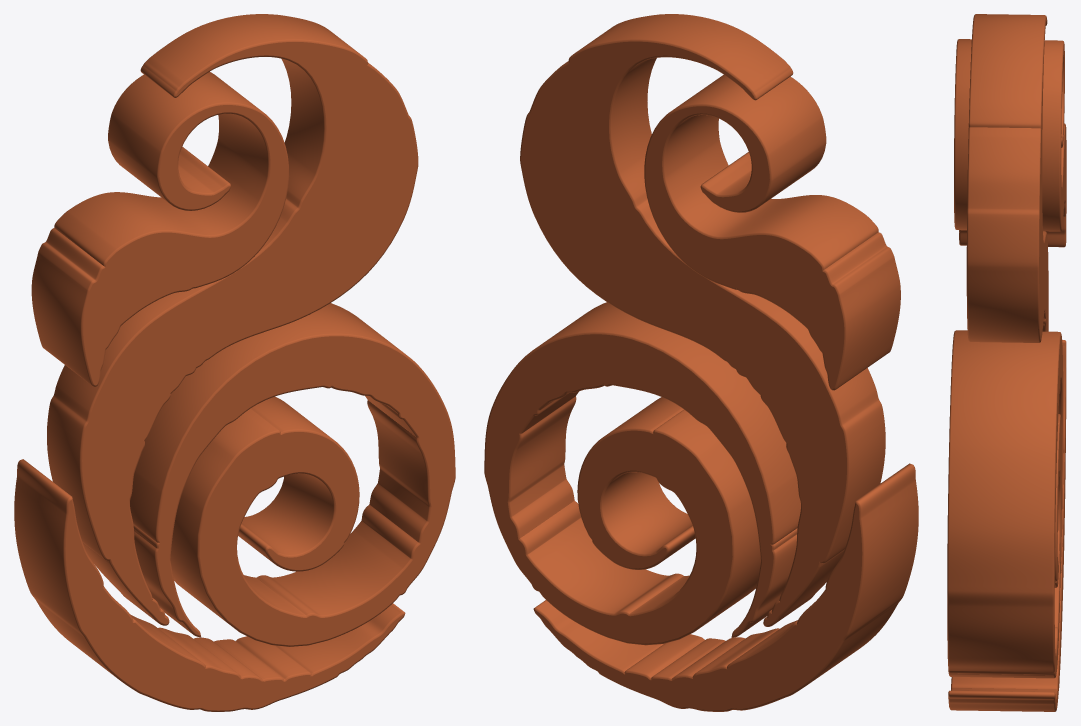
Rendered from AHAA_YOGA.fbx.
The picture shows the model from 3 angles, left to right: view 1: azimuth 30°, elevation 25°; view 2: azimuth 150°, elevation 25°; view 3: azimuth 270°, elevation 25°; orthographic projection.
Visible parts, largest first — view 1: Curve.002, Curve.001, Curve.003, Curve.004; view 2: Curve.002, Curve.001, Curve.003, Curve.004; view 3: Curve.002, Curve.001, Curve.003, Curve.004.
Part boxes in pixels (x1=…): Curve.002: x1=130, y1=303, x2=455, y2=646; Curve.001: x1=47, y1=14, x2=418, y2=625; Curve.003: x1=31, y1=71, x2=289, y2=386; Curve.004: x1=14, y1=459, x2=405, y2=711; Curve.002: x1=484, y1=302, x2=800, y2=645; Curve.001: x1=520, y1=14, x2=885, y2=626; Curve.003: x1=644, y1=75, x2=900, y2=390; Curve.004: x1=533, y1=463, x2=918, y2=711; Curve.002: x1=947, y1=330, x2=1063, y2=678; Curve.001: x1=966, y1=14, x2=1048, y2=342; Curve.003: x1=954, y1=39, x2=1066, y2=247; Curve.004: x1=948, y1=340, x2=1066, y2=711.
Bounding box in the file's own units: 327 × 527 × 86.25.
